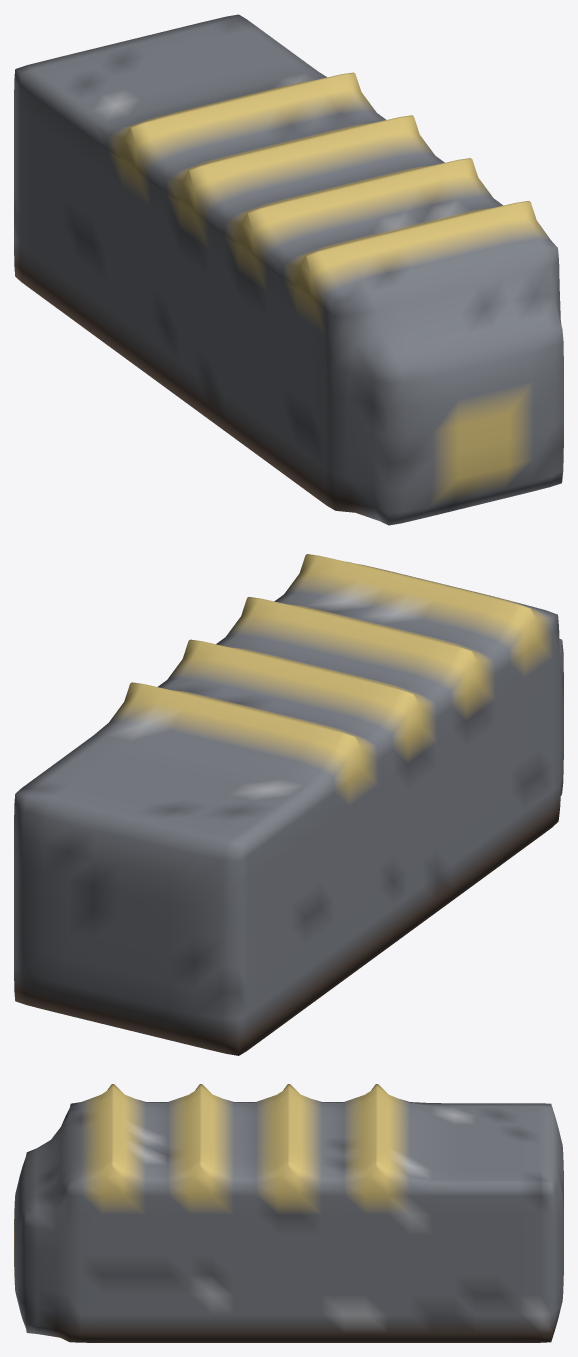
The model's file is plate_epic_boot_foot_L.glb.
3 renders of one model, top to bottom at view 1: azimuth 30°, elevation 25°; view 2: azimuth 150°, elevation 25°; view 3: azimuth 270°, elevation 25°, orthographic. The views are drawn at different scales.
Parts seen in each view (by area): view 1: plate_epic_boot_foot_L; view 2: plate_epic_boot_foot_L; view 3: plate_epic_boot_foot_L.
Boxes of the visible parts, x1,y1,x2,y2 form: plate_epic_boot_foot_L: [14, 14, 563, 525]; plate_epic_boot_foot_L: [14, 554, 563, 1055]; plate_epic_boot_foot_L: [14, 1084, 563, 1342].
Size of the model in its own units: 0.108 by 0.1076 by 0.3.
